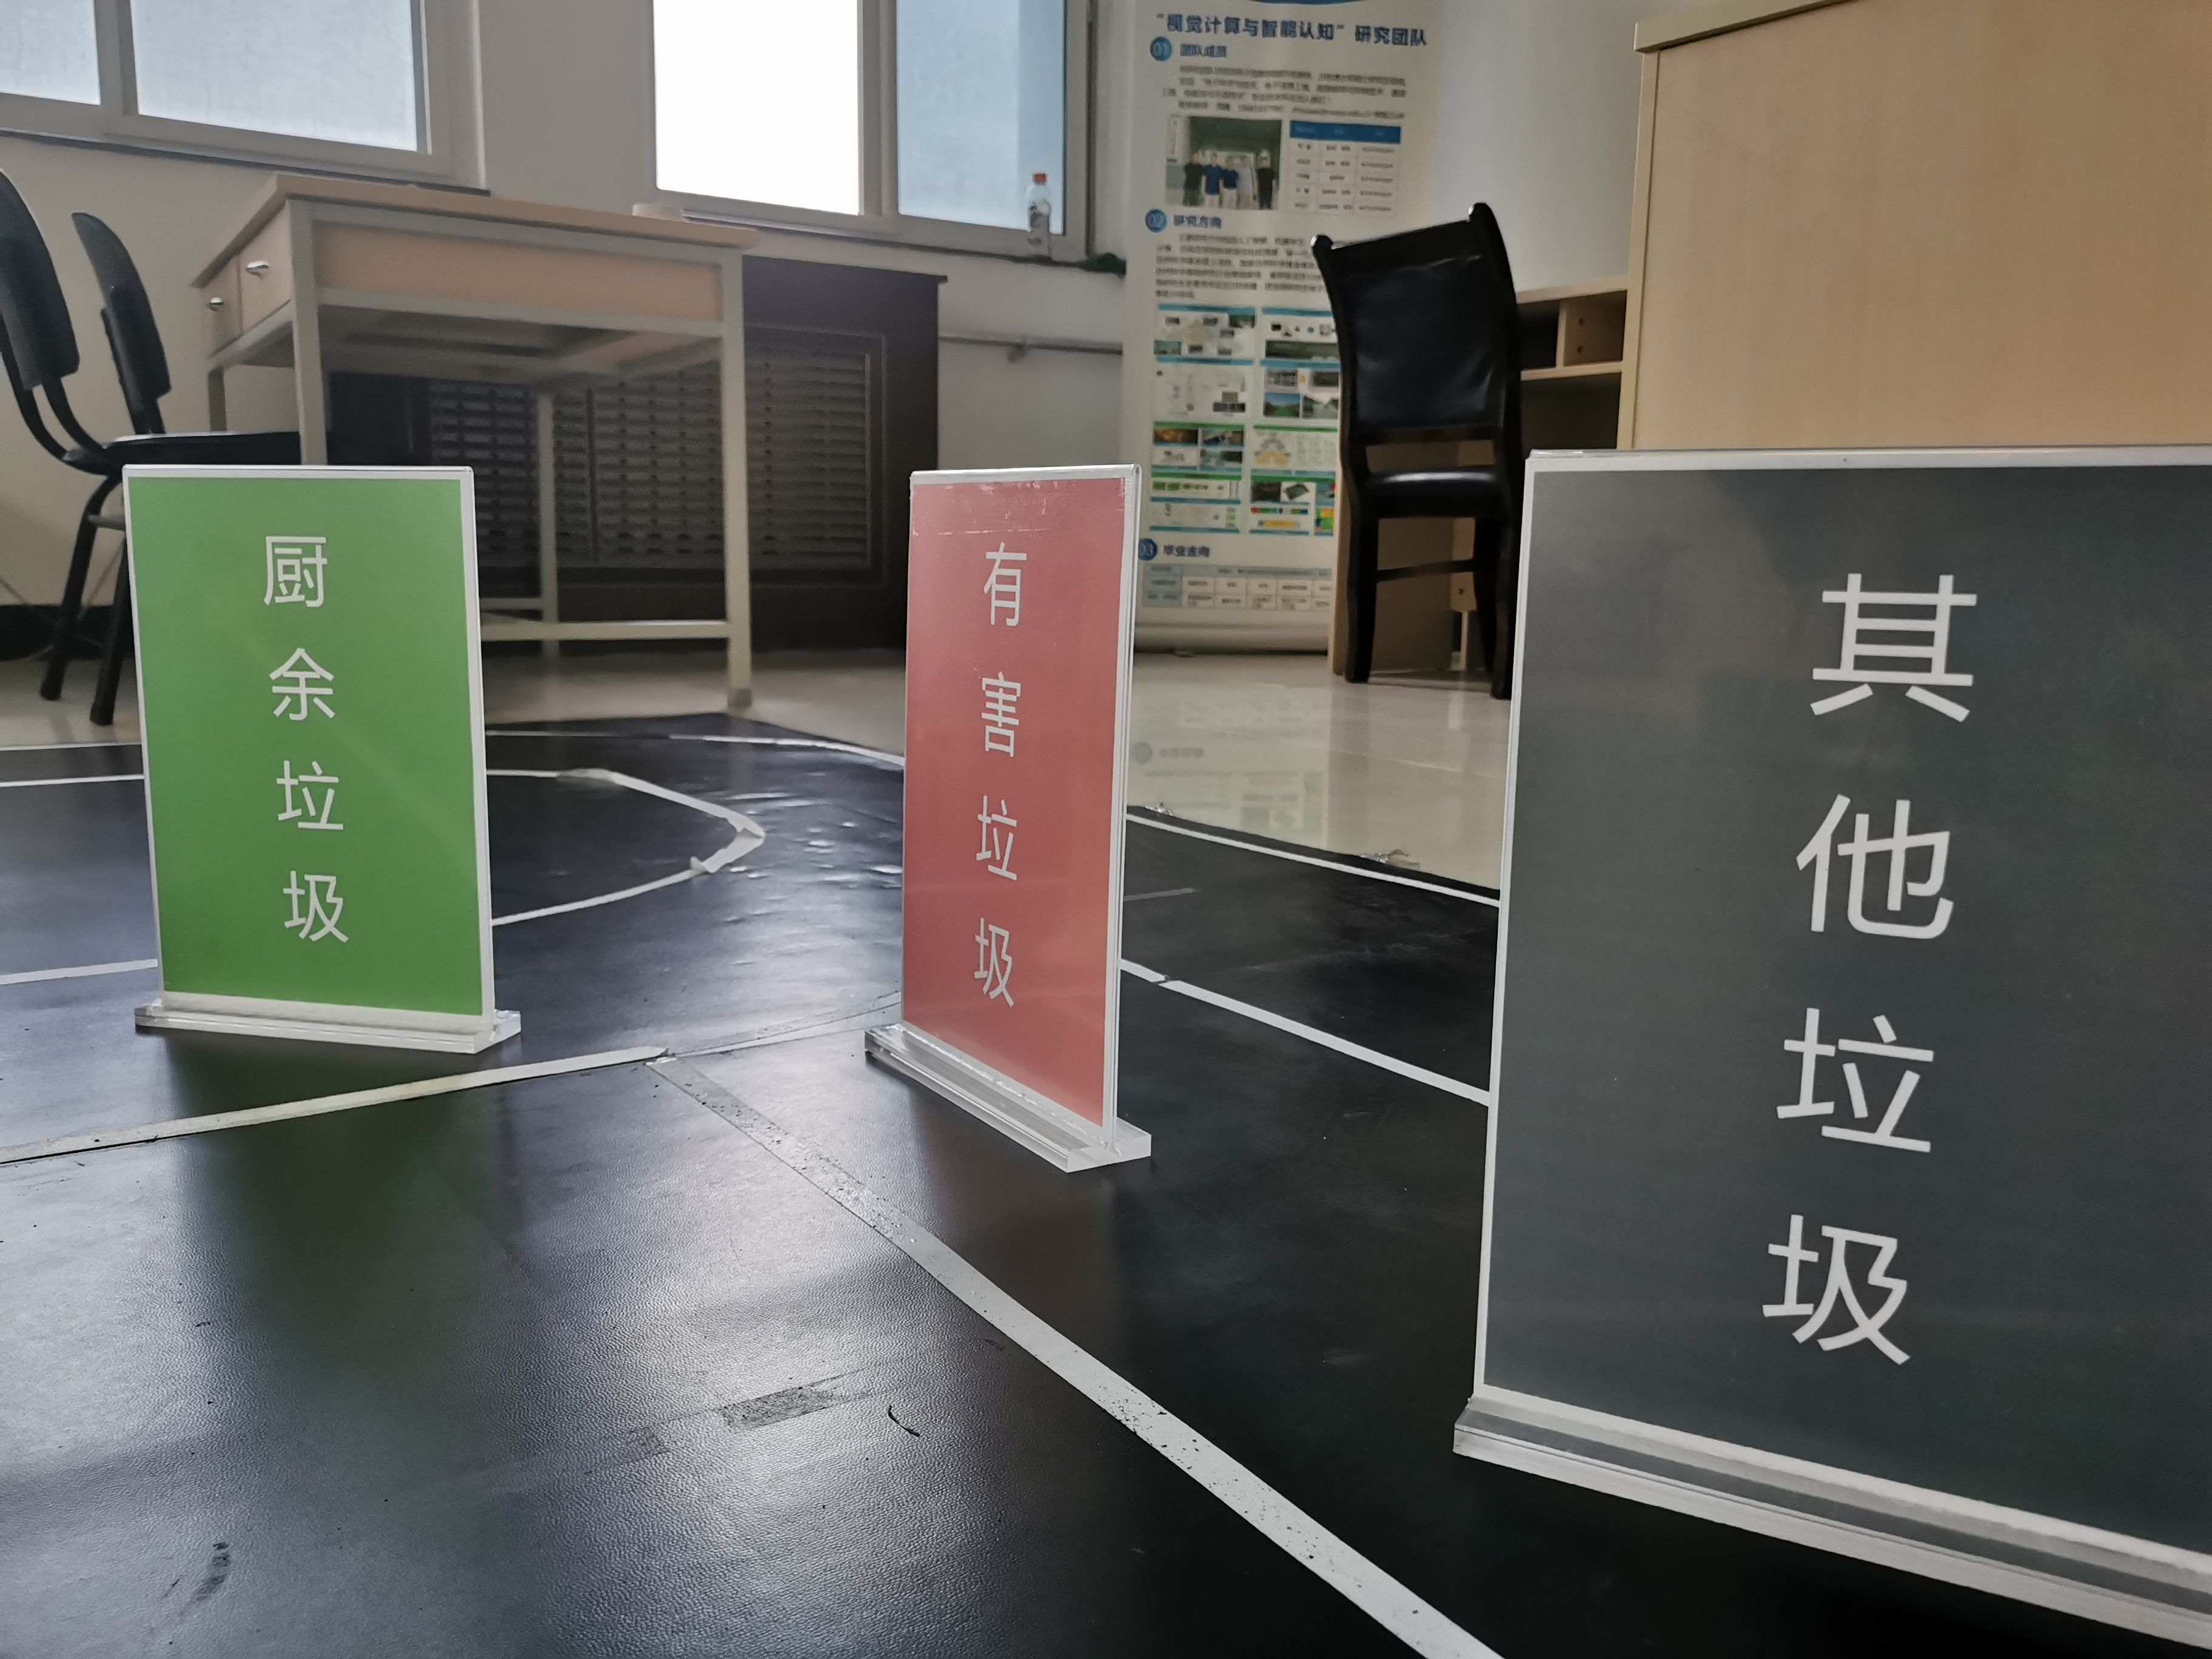black: (1547, 483, 2212, 1382)
green: (162, 484, 479, 993)
red: (913, 490, 1097, 1030)
